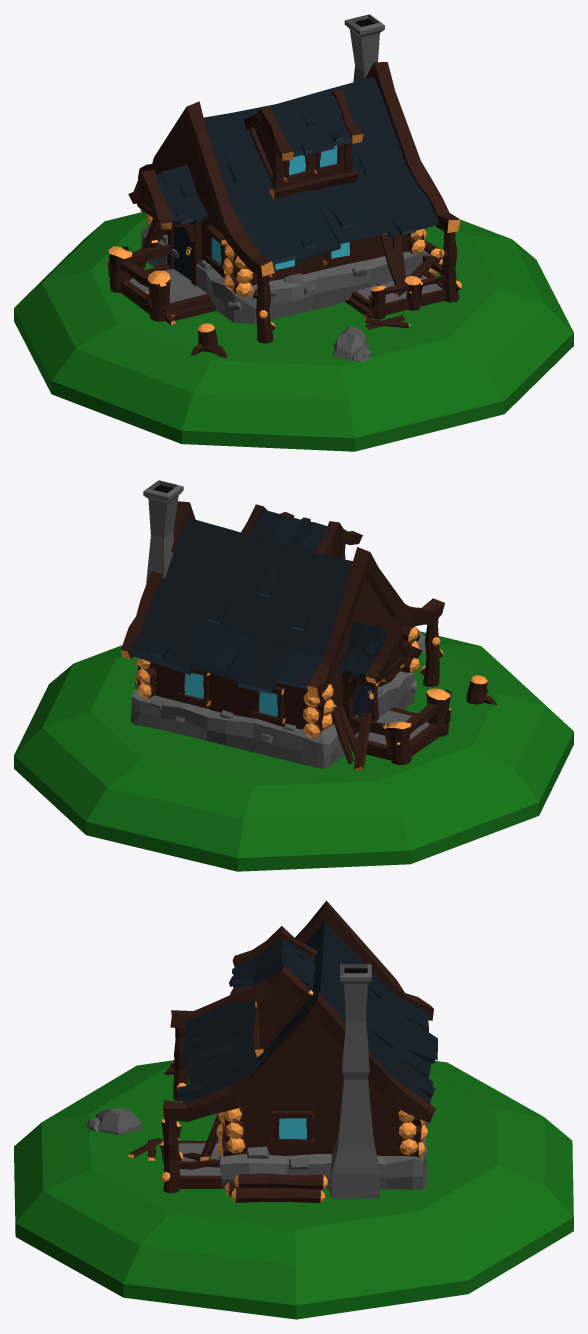
The model's file is Casa.fbx.
3 renders of one model, top to bottom at view 1: azimuth 30°, elevation 25°; view 2: azimuth 150°, elevation 25°; view 3: azimuth 270°, elevation 25°, orthographic. The views are drawn at different scales.
Parts seen in each view (by area): view 1: group1463622282, group1959508968, group1801783179, group1958003972, group182768936, group374118918, group288122642, group834835194, group1383119677, group1731019520, group275524102, group660646036 (+17 smaller); view 2: group1463622282, group1959508968, group2091678014, group1958003972, group213256307, group1383119677, group834835194, group374118918, group182768936, group288122642, group275524102, group2010645956 (+15 smaller); view 3: group1463622282, group1959508968, group708783982, group1383119677, group182768936, group2091678014, group1958003972, group374118918, group586994725, group170611882, group713214277, group1635468530 (+9 smaller).
Boxes of the visible parts, x1,y1,x2,y2 form: group1463622282: [14, 212, 573, 451]; group1959508968: [204, 76, 438, 264]; group1801783179: [196, 251, 421, 323]; group1958003972: [138, 101, 274, 276]; group182768936: [365, 62, 460, 232]; group374118918: [272, 95, 351, 156]; group288122642: [156, 164, 208, 224]; group834835194: [163, 133, 227, 278]; group1383119677: [344, 14, 384, 82]; group1731019520: [250, 234, 408, 285]; group275524102: [128, 169, 172, 229]; group660646036: [145, 270, 170, 321]; group1463622282: [14, 631, 573, 871]; group1959508968: [131, 518, 411, 693]; group2091678014: [131, 688, 351, 768]; group1958003972: [307, 547, 444, 698]; group213256307: [153, 664, 307, 729]; group1383119677: [135, 480, 183, 689]; group834835194: [322, 579, 403, 730]; group374118918: [249, 510, 327, 553]; group182768936: [121, 501, 195, 659]; group288122642: [337, 622, 387, 677]; group275524102: [365, 625, 422, 683]; group2010645956: [303, 684, 333, 738]; group1463622282: [14, 1060, 573, 1319]; group1959508968: [182, 922, 437, 1103]; group708783982: [241, 1022, 402, 1155]; group1383119677: [329, 964, 379, 1198]; group182768936: [162, 992, 435, 1123]; group2091678014: [220, 1122, 428, 1189]; group1958003972: [170, 900, 433, 1028]; group374118918: [229, 938, 314, 990]; group586994725: [270, 1110, 314, 1145]; group170611882: [231, 1188, 324, 1203]; group713214277: [234, 1173, 327, 1189]; group1635468530: [230, 965, 311, 1003].
Size of the model in its own units: 5 by 2.63 by 4.77.
